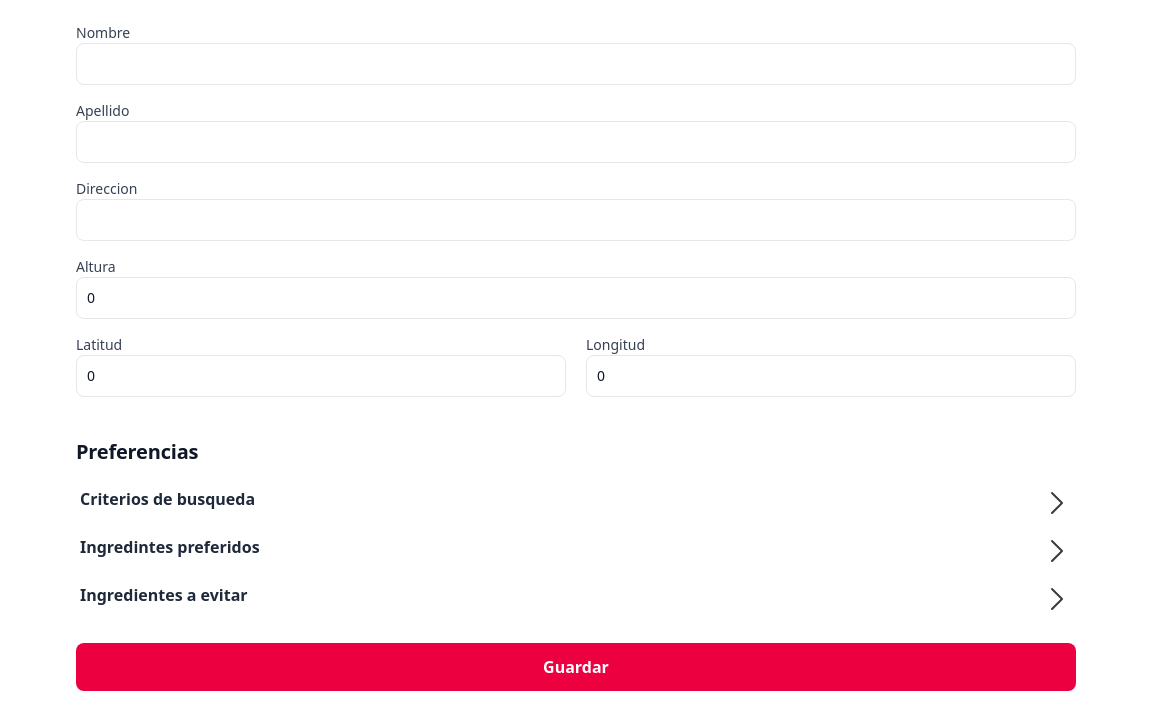
Test: PerfilUsuarioLayout › debe mostrar error al actualizar usuario con datos inválidos
This screenshot has width=1152, height=708.
(page scrolled)
Click the button "Guardar" at (576, 667), box [76,643,1076,691]
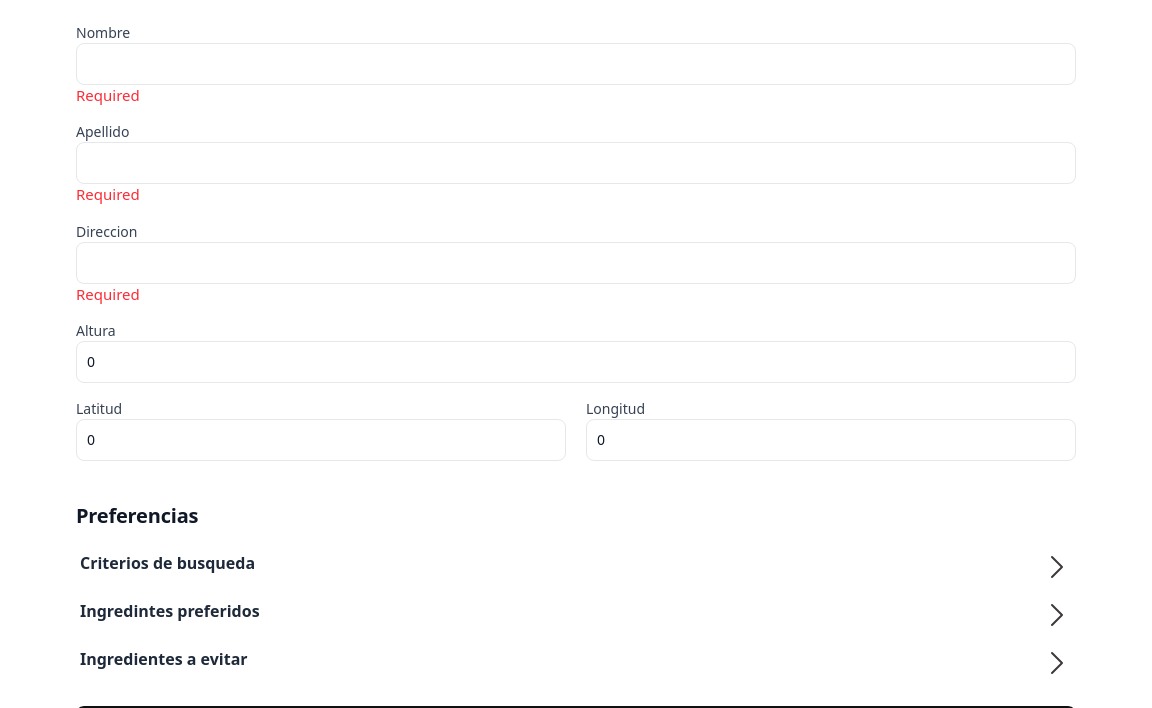
Now the text "Required" below "Nombre" is shown, box [76,85,140,105]
